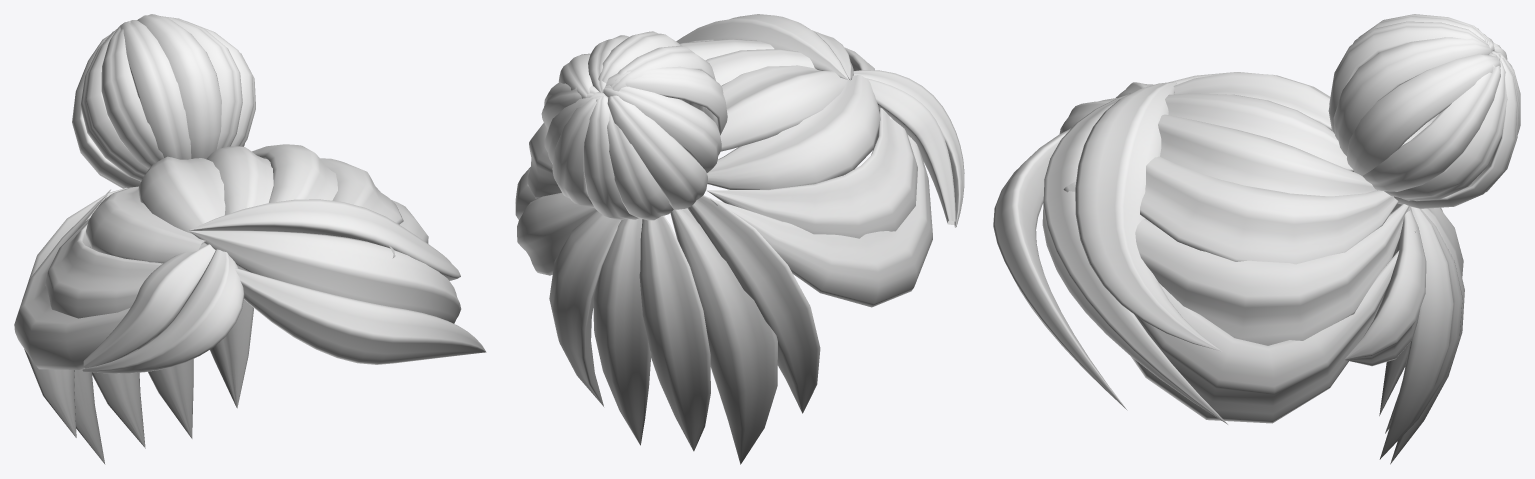
File: haire2.fbx
3 views of the same model, side by side, from view 1: azimuth 30°, elevation 25°; view 2: azimuth 150°, elevation 25°; view 3: azimuth 270°, elevation 25° (orthographic). The views are drawn at different scales.
Visible parts, largest first — view 1: NurbsPath.039; view 2: NurbsPath.039; view 3: NurbsPath.039.
Part boxes in pixels (bbox=[...]): NurbsPath.039: bbox=[14, 14, 486, 464]; NurbsPath.039: bbox=[515, 14, 964, 464]; NurbsPath.039: bbox=[993, 14, 1520, 464].
Bounding box in the file's own units: 300 × 277 × 273.
